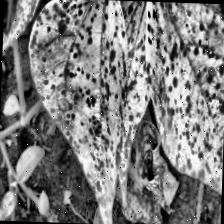ALS: (23, 0, 141, 224), (142, 2, 224, 224), (2, 0, 58, 57)
